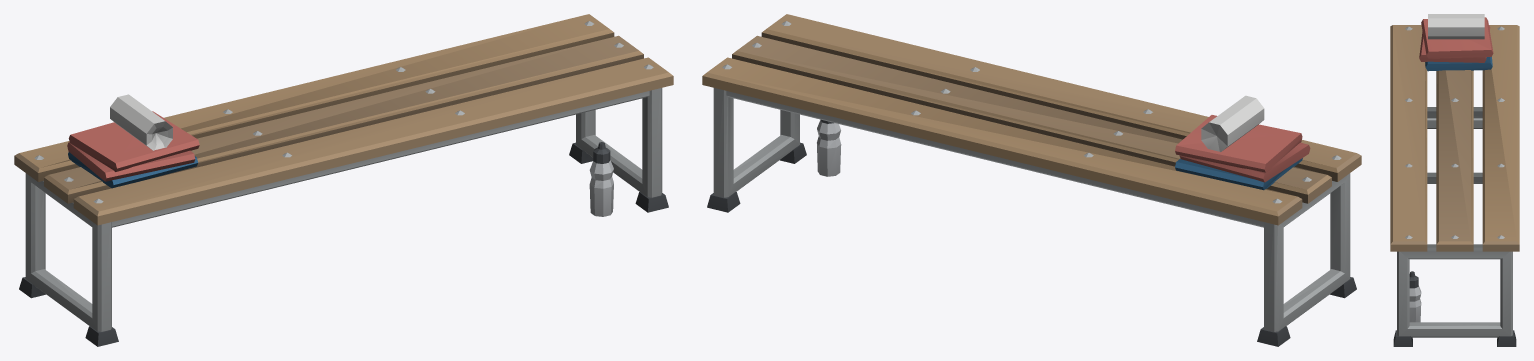
Rendered from bench.glb.
3 views of the same model, side by side, from view 1: azimuth 30°, elevation 25°; view 2: azimuth 150°, elevation 25°; view 3: azimuth 270°, elevation 25° (orthographic). The views are drawn at different scales.
Parts seen in each view (by area): view 1: bench.001; view 2: bench.001; view 3: bench.001.
Part boxes in pixels (box(x1,y1,x2,y2)): bench.001: box(14, 14, 673, 346); bench.001: box(702, 14, 1361, 346); bench.001: box(1390, 14, 1519, 346).
Bounding box in the file's own units: 2.4 × 0.7481 × 0.6.
